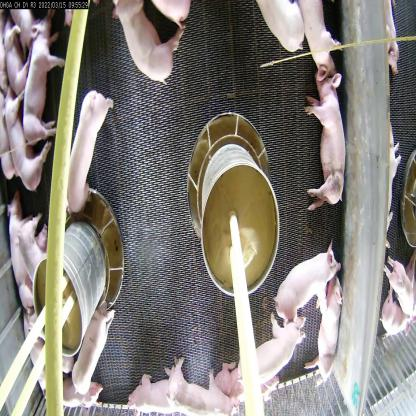Pig: (64, 70, 116, 216), (303, 69, 350, 215), (112, 1, 192, 84), (3, 85, 54, 203), (160, 343, 241, 416), (24, 10, 63, 153), (218, 317, 303, 379), (70, 297, 121, 395), (272, 239, 334, 309), (24, 309, 62, 408), (294, 0, 338, 80), (319, 280, 352, 382), (0, 192, 28, 300), (125, 368, 185, 415), (18, 210, 51, 276)
